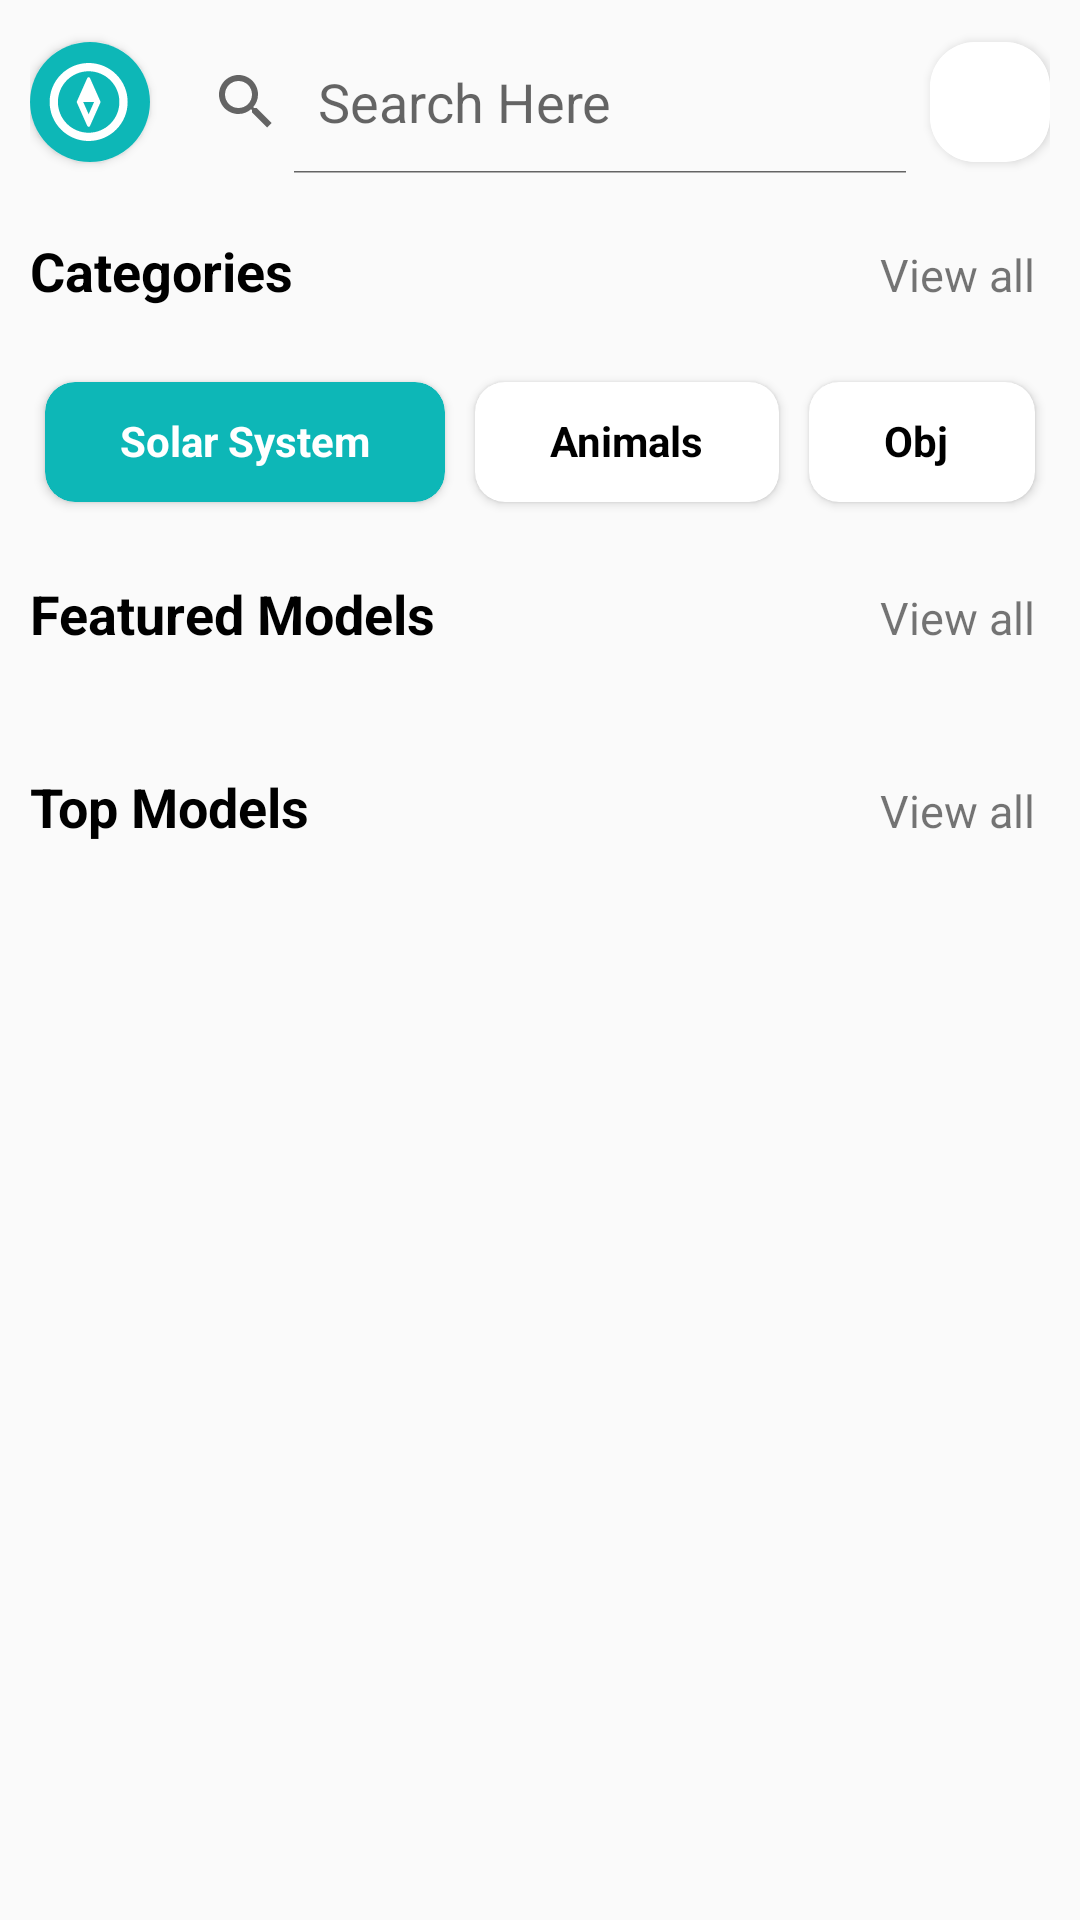

Named icons in this screenshot (1080×1920) and their bounding boxes, [x1,y1,x2,y2]:
navigation: [30,42,150,162]
